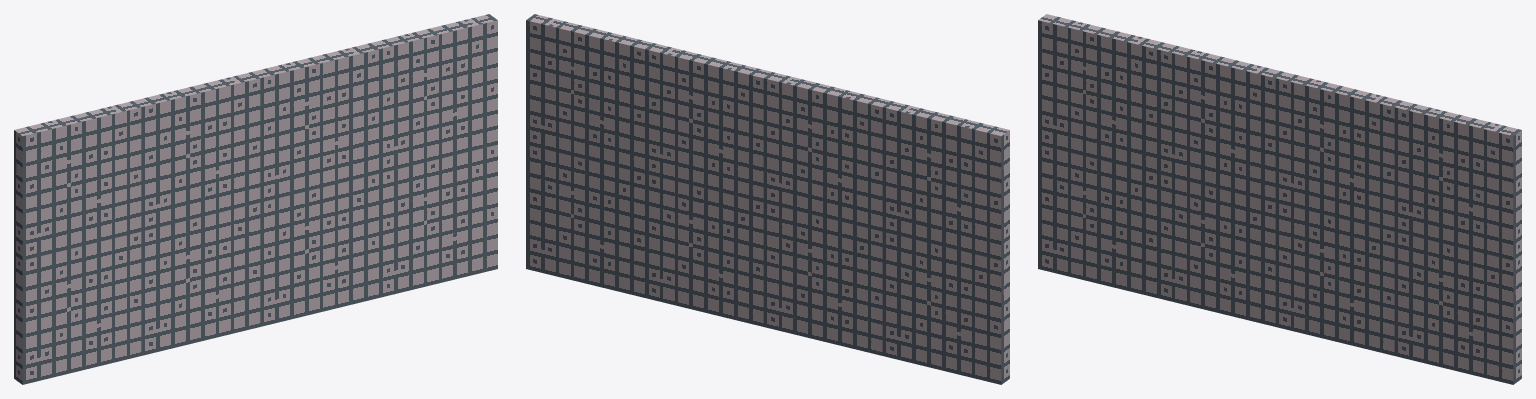
File: wall_textured_e_8_col.gltf
3 renders of one model, left to right at view 1: azimuth 30°, elevation 25°; view 2: azimuth 150°, elevation 25°; view 3: azimuth 330°, elevation 25°, orthographic.
Visible parts, largest first — view 1: wall_textured_e_8_col; view 2: wall_textured_e_8_col; view 3: wall_textured_e_8_col.
Part boxes in pixels (box(x1,y1,x2,y2)): wall_textured_e_8_col: box(14, 14, 497, 384); wall_textured_e_8_col: box(526, 14, 1009, 384); wall_textured_e_8_col: box(1038, 14, 1521, 384).
Size of the model in its own units: 8 by 4 by 0.25.
1 material, 1 textured.
